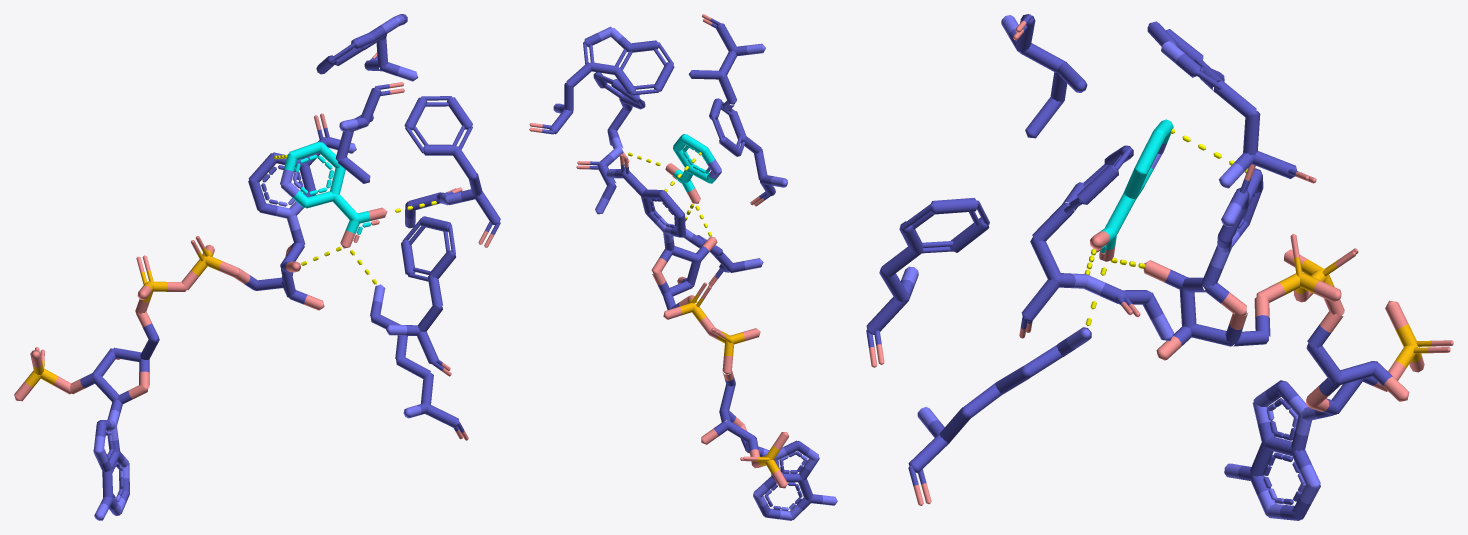
File: activesite_densityblue.gltf
3 renders of one model, left to right at view 1: azimuth 30°, elevation 25°; view 2: azimuth 150°, elevation 25°; view 3: azimuth 270°, elevation 25°, orthographic. The views are drawn at different scales.
Visible parts, largest first — view 1: no part large enough to name; view 2: no part large enough to name; view 3: node-geom170, node-geom160, node-geom268, node-geom161.
Part boxes in pixels (x1,y1,x2,y2): node-geom170: (1077,164,1118,204); node-geom160: (1021,279,1060,320); node-geom268: (1135,130,1165,175); node-geom161: (1030,236,1061,280).
Bounding box in the file's own units: 18.29 × 23.88 × 20.01.
